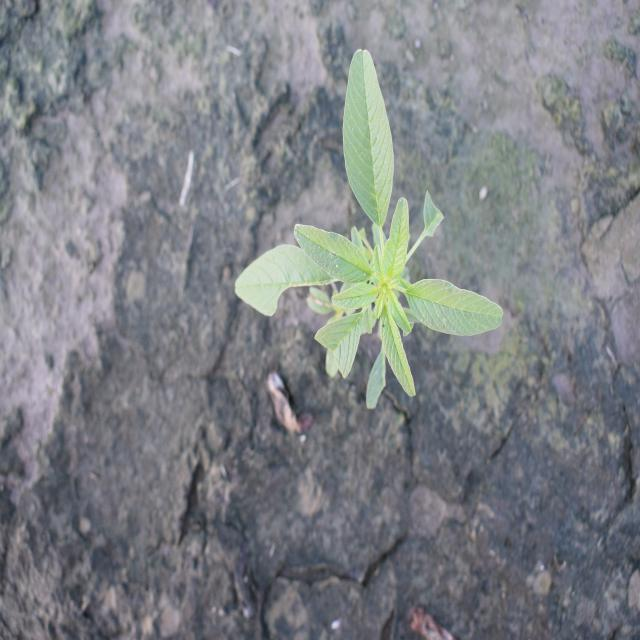Waterhemp: (232, 46, 504, 412)
